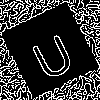U: (24, 25, 78, 83)
